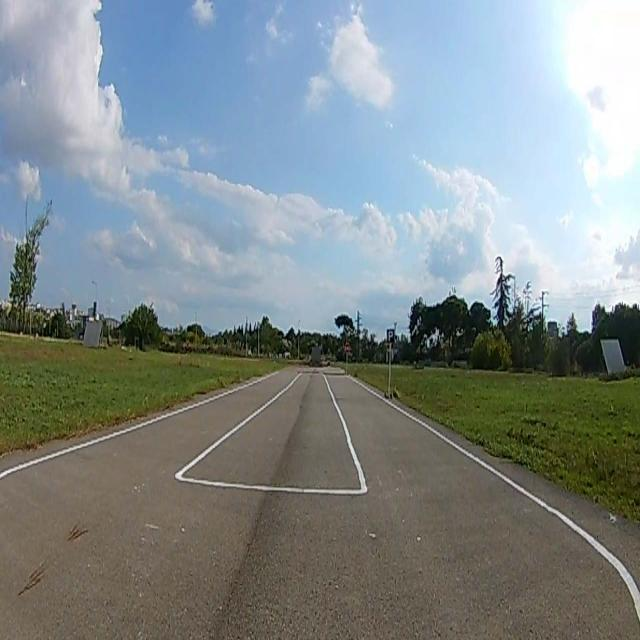park: (387, 329, 394, 342)
